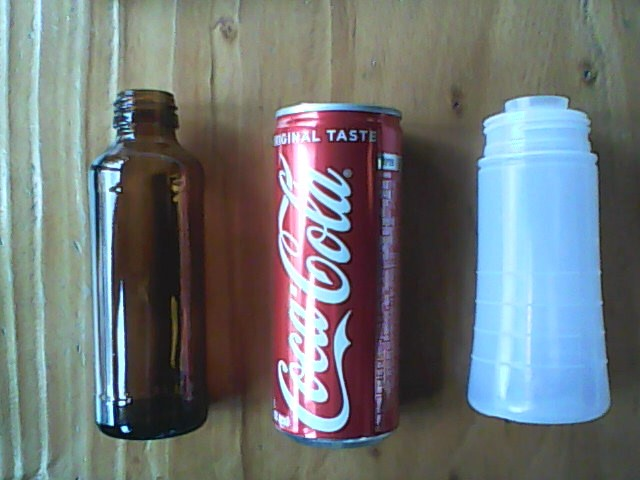Can: (265, 95, 410, 453)
Glass: (82, 83, 211, 444)
Plastic: (458, 84, 617, 429)
